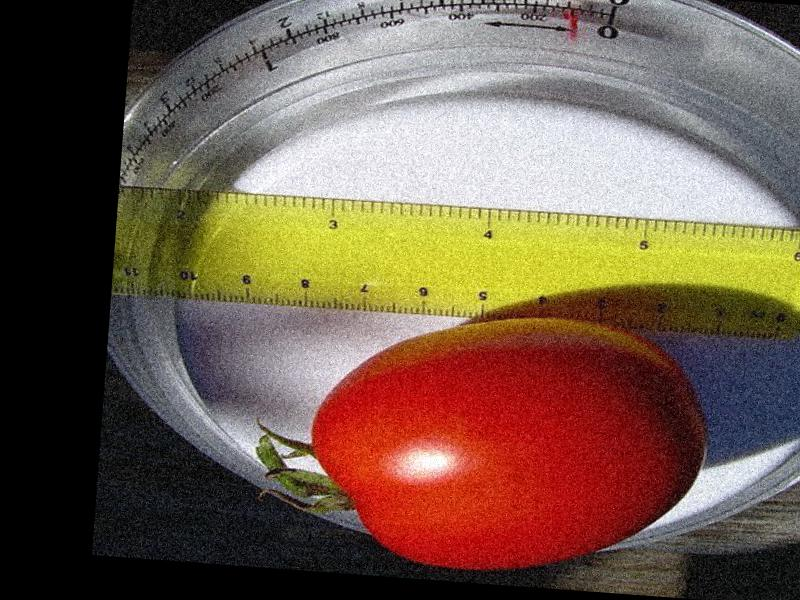Tomato: (300, 294, 712, 587)
